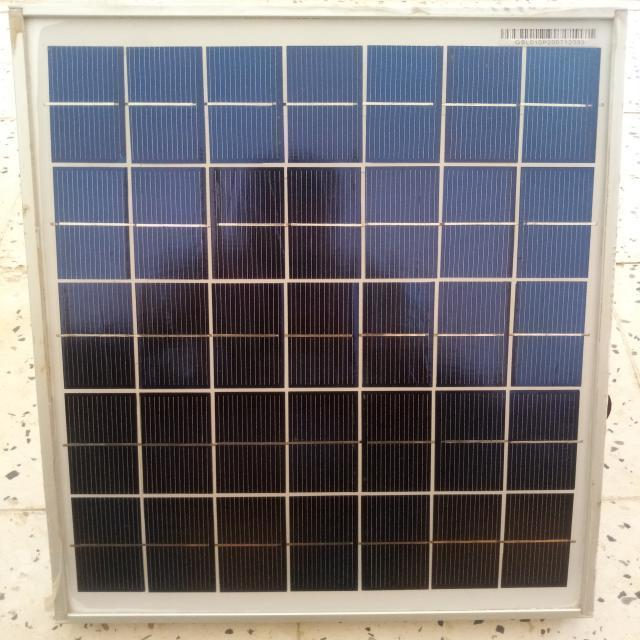Normal Solar Panel: (14, 9, 628, 617)
